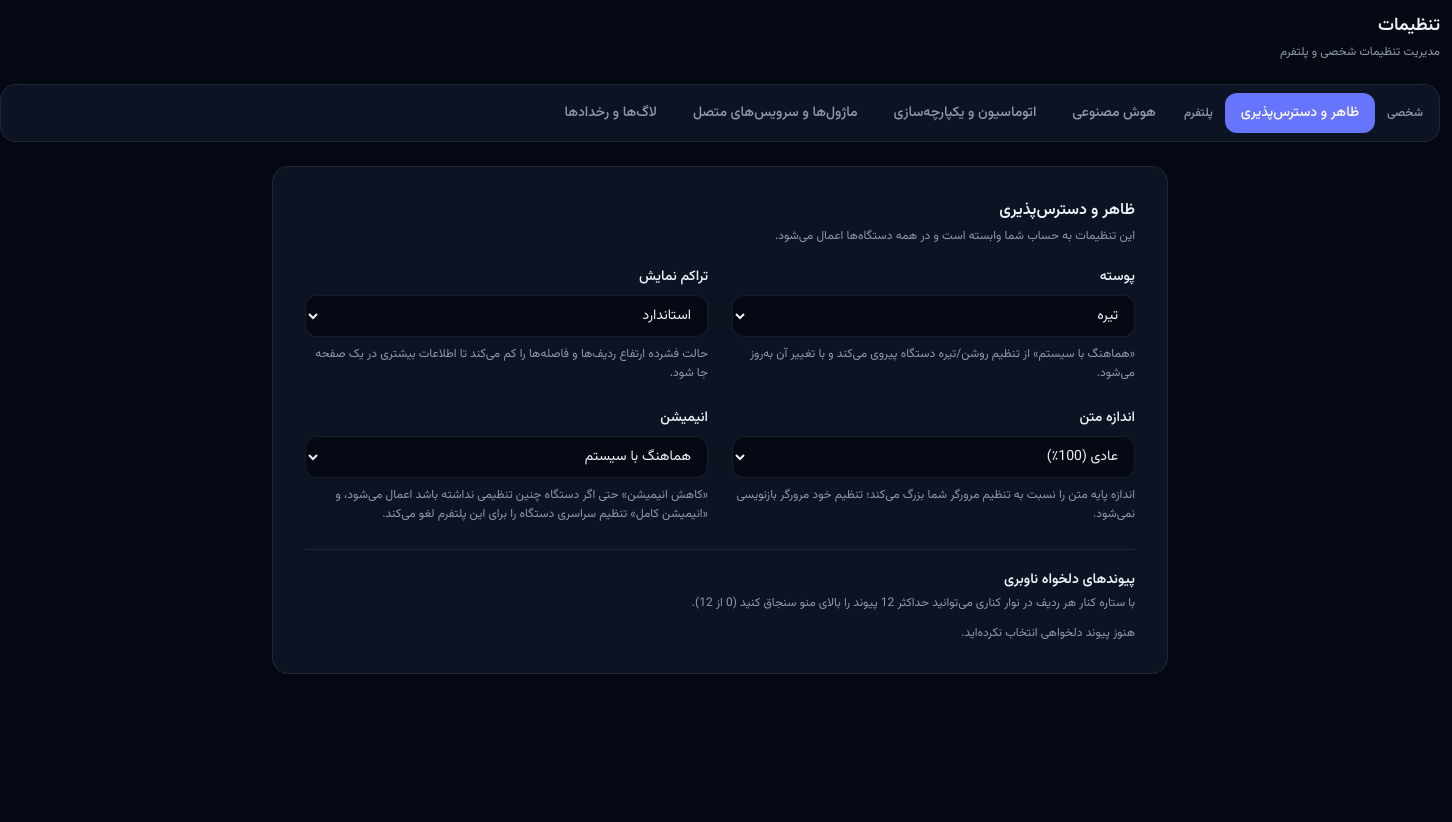
Scenario: CoreSettingsCenter › activates the AI tab on click, mounts the EXISTING view, and updates the URL
This screenshot has width=1452, height=822.
What coordinates should you click on to do the following:
click the tab "هوش مصنوعی"
I would click on:
 (1114, 113)
Its box is [1056, 93, 1172, 133].
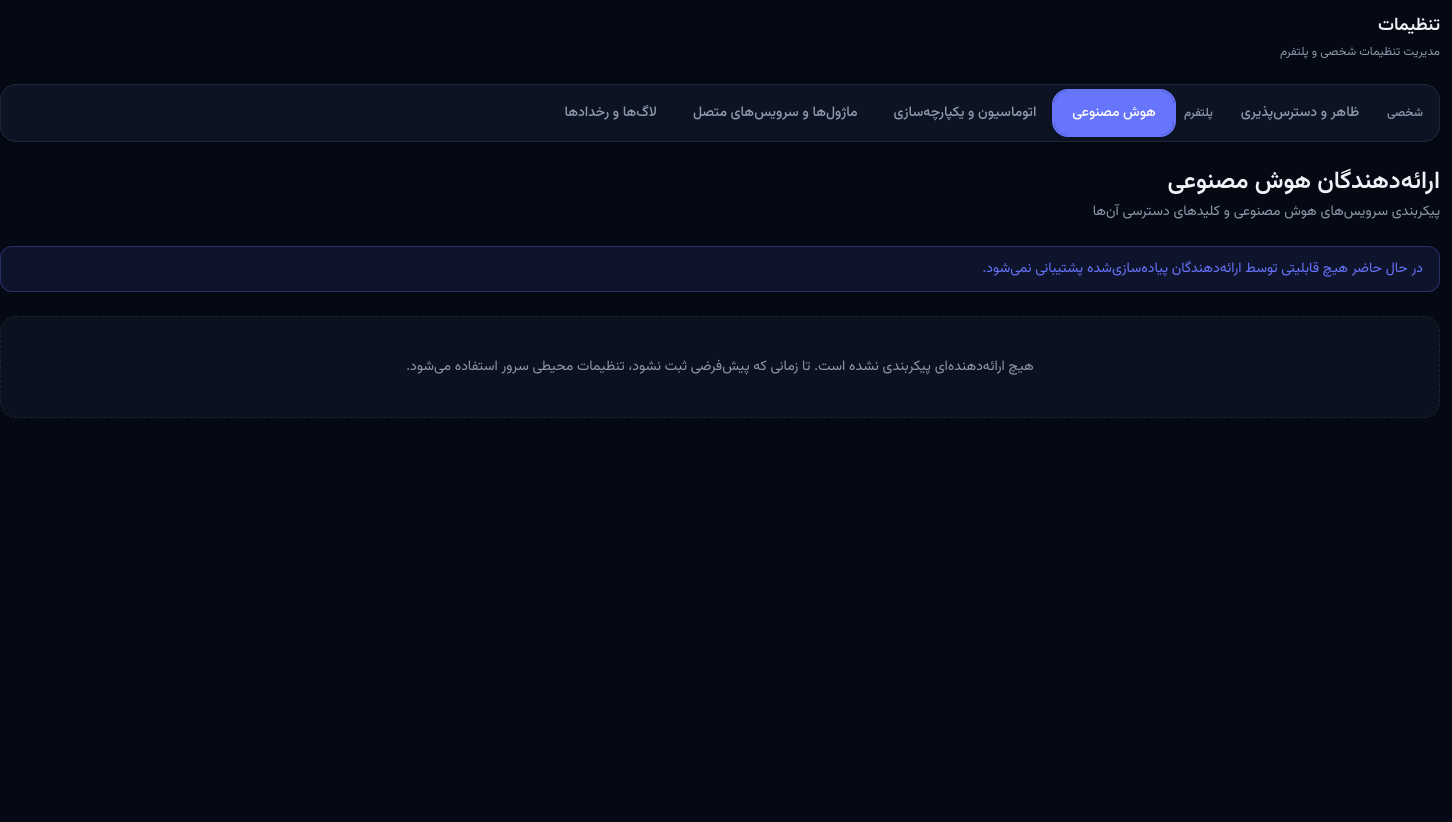
Expected: the number of panels is 1, [0, 166, 1440, 418]
